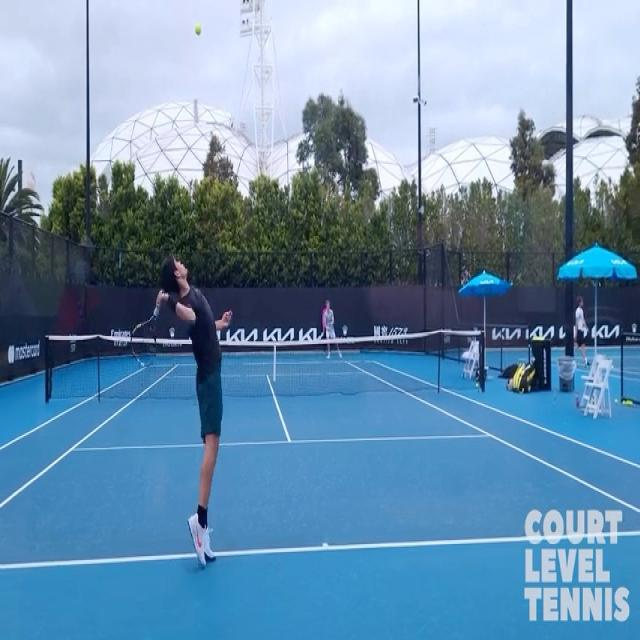serve_hit: (132, 246, 231, 573)
